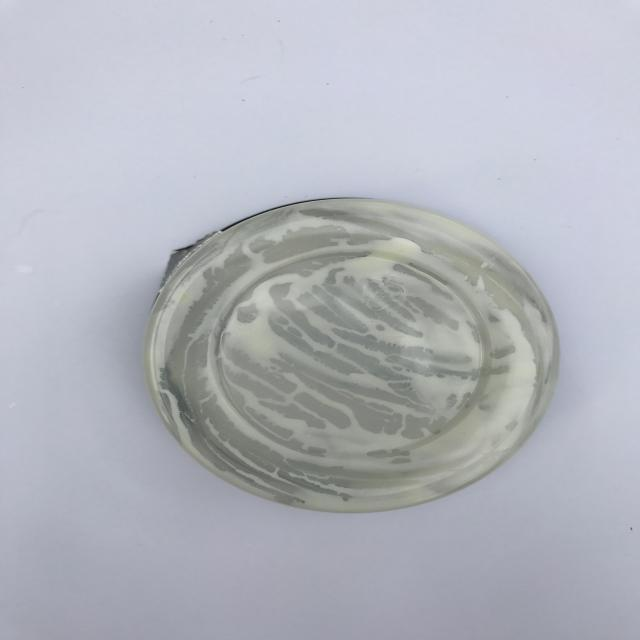plastic: (140, 194, 566, 516)
